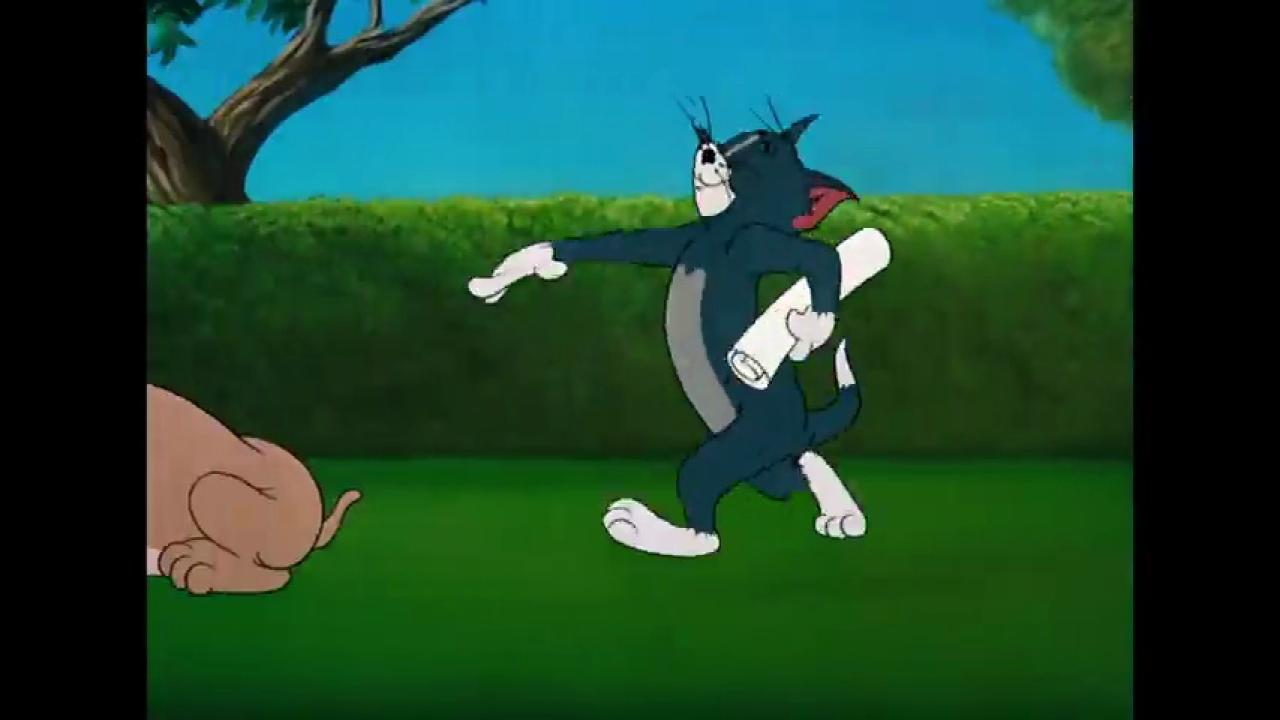Tom: (465, 109, 871, 558)
